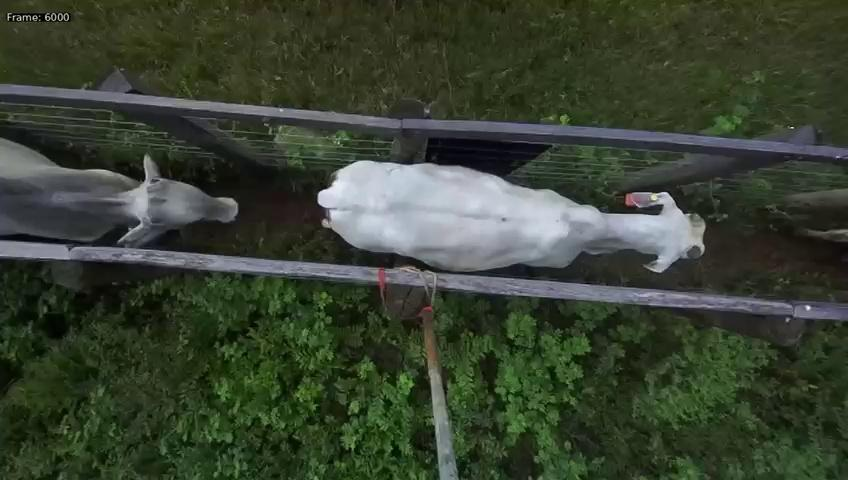cattle: (310, 140, 717, 283), (0, 118, 247, 253)
